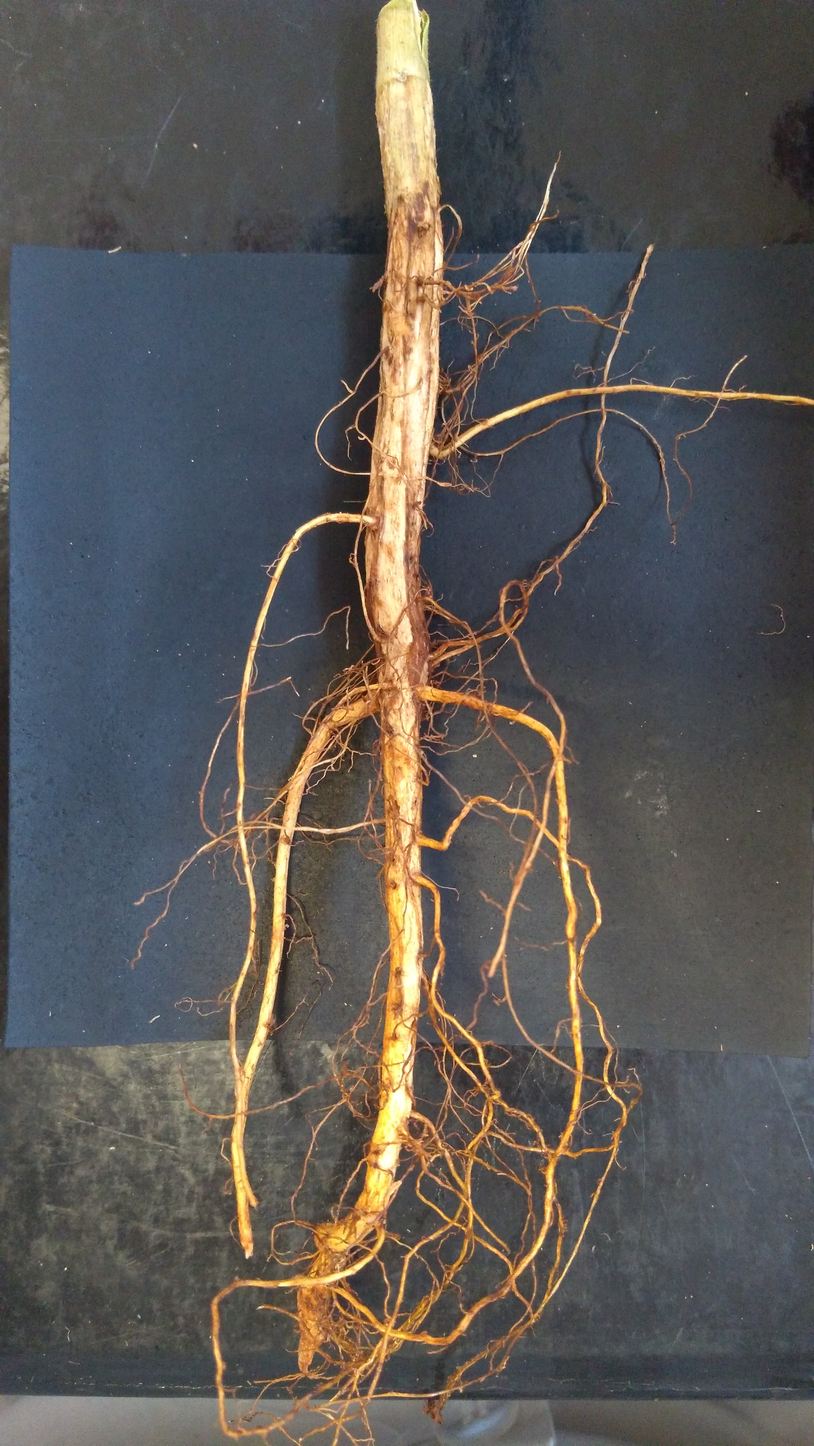nodule: (313, 1222, 334, 1250), (327, 1251, 346, 1272), (305, 1319, 322, 1337), (405, 1138, 424, 1153), (383, 1316, 396, 1328), (335, 1316, 346, 1329), (474, 353, 484, 365), (347, 665, 356, 673), (464, 284, 474, 291), (421, 1330, 428, 1336), (285, 923, 289, 928), (424, 1134, 429, 1138)
